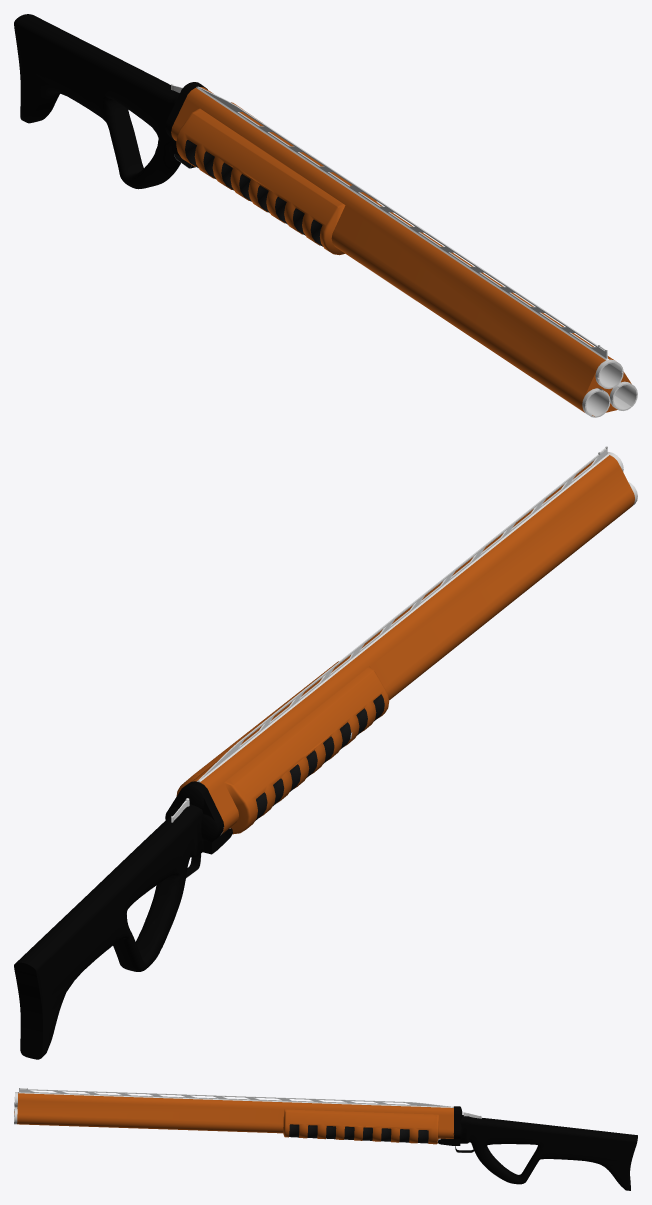
The model's file is shotgun_clay_thingie.FBX.
3 renders of one model, top to bottom at view 1: azimuth 30°, elevation 25°; view 2: azimuth 150°, elevation 25°; view 3: azimuth 270°, elevation 25°, orthographic. The views are drawn at different scales.
Parts seen in each view (by area): view 1: barrel, stock; view 2: barrel, stock; view 3: barrel, stock.
Boxes of the visible parts, box(x1,y1,x2,y2) form: barrel: box(171, 86, 637, 417); stock: box(14, 14, 207, 189); barrel: box(176, 446, 637, 835); stock: box(14, 781, 232, 1059); barrel: box(14, 1088, 453, 1144); stock: box(437, 1106, 637, 1190).
Size of the model in its own units: 52.81 by 129 by 719.
